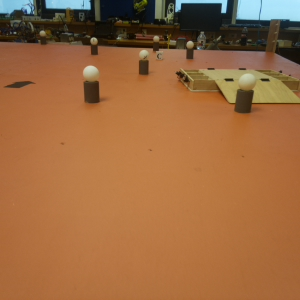obstacle: (235, 75, 255, 112), (84, 66, 101, 106), (138, 49, 150, 76), (185, 41, 194, 60), (90, 37, 99, 55), (151, 35, 159, 49), (39, 31, 46, 43)
side: (174, 66, 205, 92)
slope: (216, 77, 300, 104)
